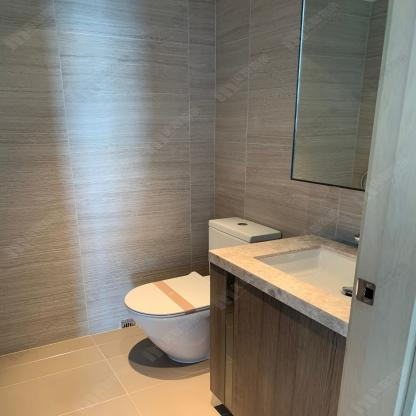Toilet: (124, 271, 209, 362), (209, 216, 282, 250)
Toilet Sink: (208, 235, 358, 337)
